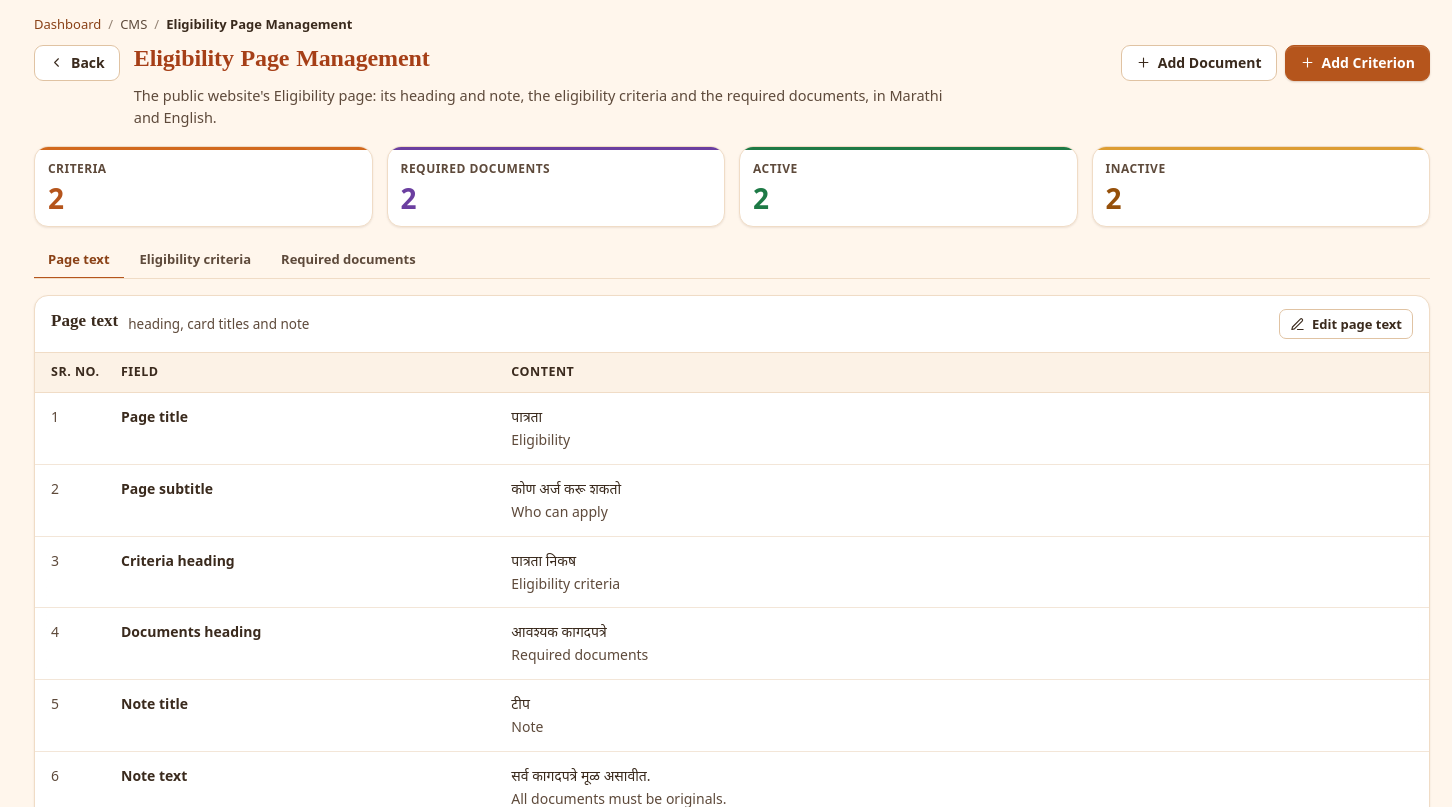
Test: <EligibilityList> tabs › keeps the Add actions in the header on every tab and Edit page text on the Page text tab, for editors
Expected: the button "Edit page text" is shown, [1279,309,1413,339]
Expected: the button "Add Criterion" is shown, [1285,44,1430,80]
Click the tab "Eligibility criteria": (195, 260) [126,241,265,279]
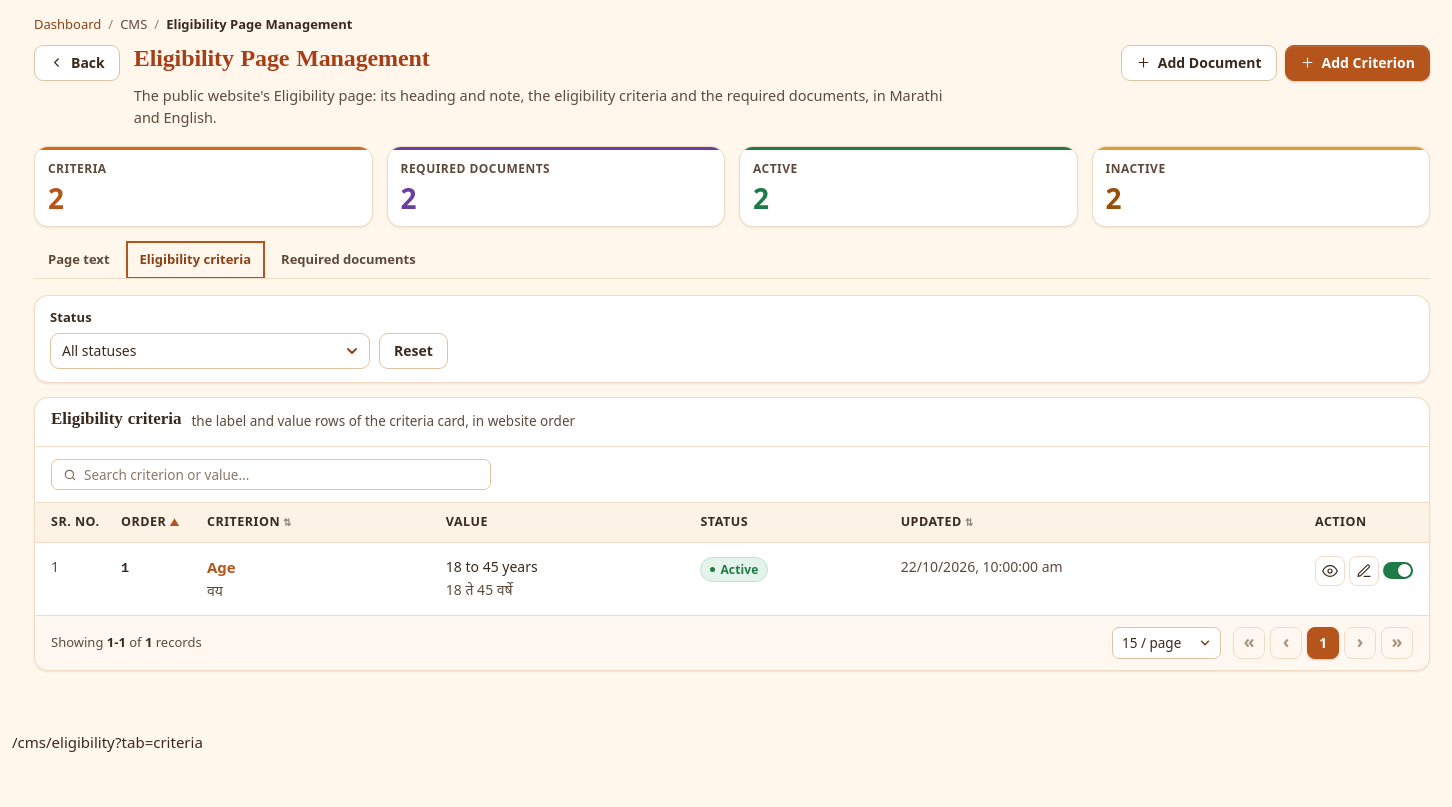
Expected: the text "Age" is shown, [207,557,236,577]
Now the button "Edit page text" is gone
Click the button "Add Criterion": (1357, 62) [1285,44,1430,80]
(page scrolled)
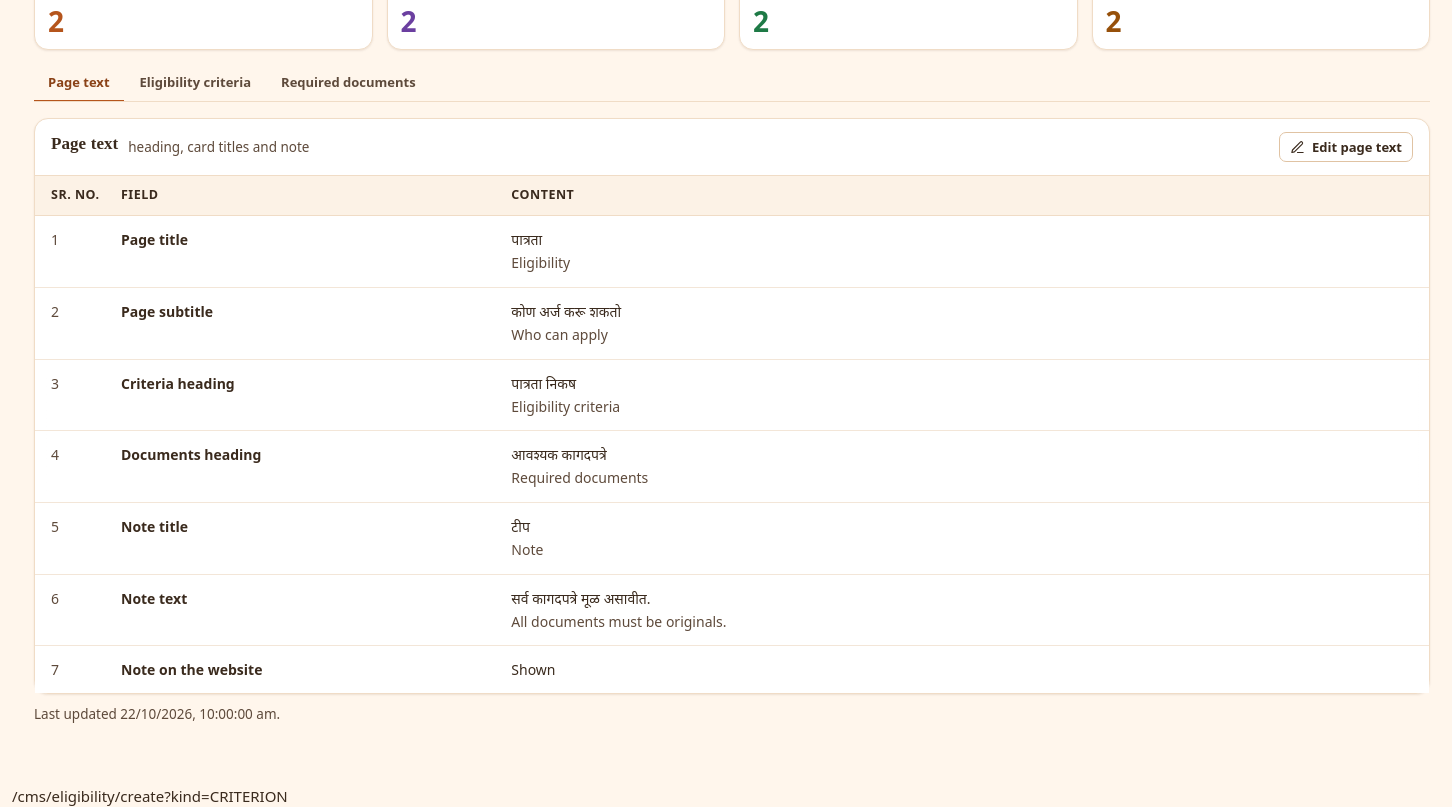
Now the text with test id "location" reads "/cms/eligibility/create?kind=CRITERION", box [12,786,288,806]
